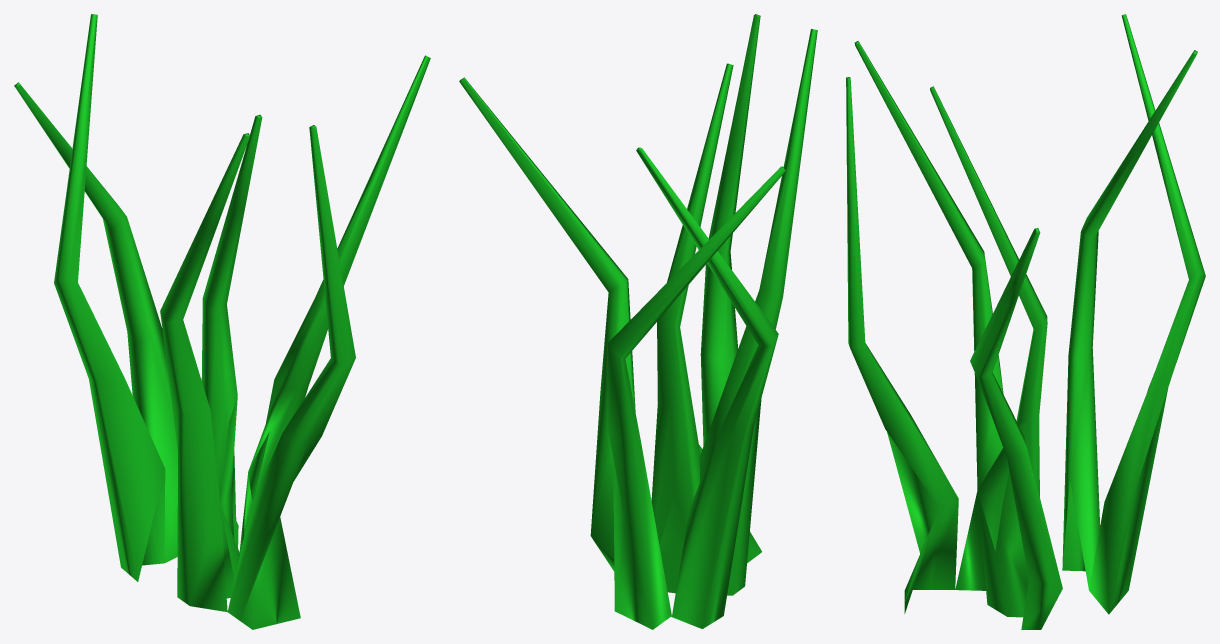
File: grass.fbx
The picture shows the model from 3 angles, left to right: view 1: azimuth 30°, elevation 25°; view 2: azimuth 150°, elevation 25°; view 3: azimuth 270°, elevation 25°; orthographic projection. The views are drawn at different scales.
Parts seen in each view (by area): view 1: Grass; view 2: Grass; view 3: Grass.
Part boxes in pixels (x1,y1,x2,y2): Grass: [14, 14, 430, 629]; Grass: [459, 14, 817, 629]; Grass: [846, 14, 1205, 629].
Bounding box in the file's own units: 55.61 × 74.41 × 45.3.
